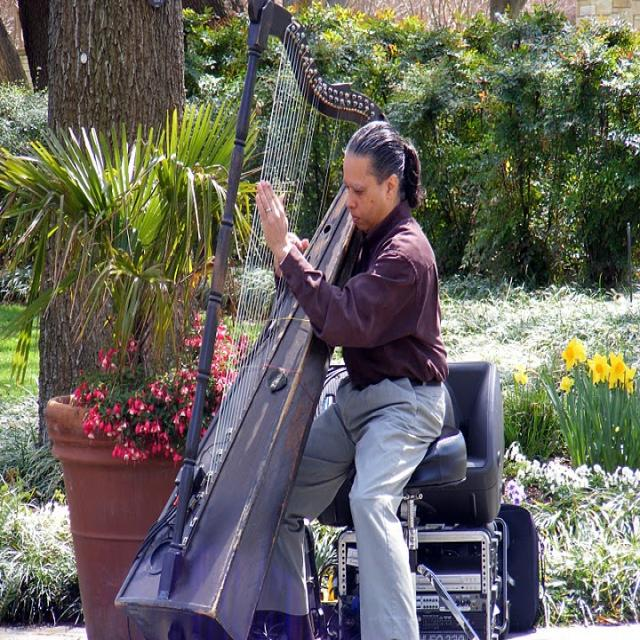harp: (111, 0, 395, 640)
